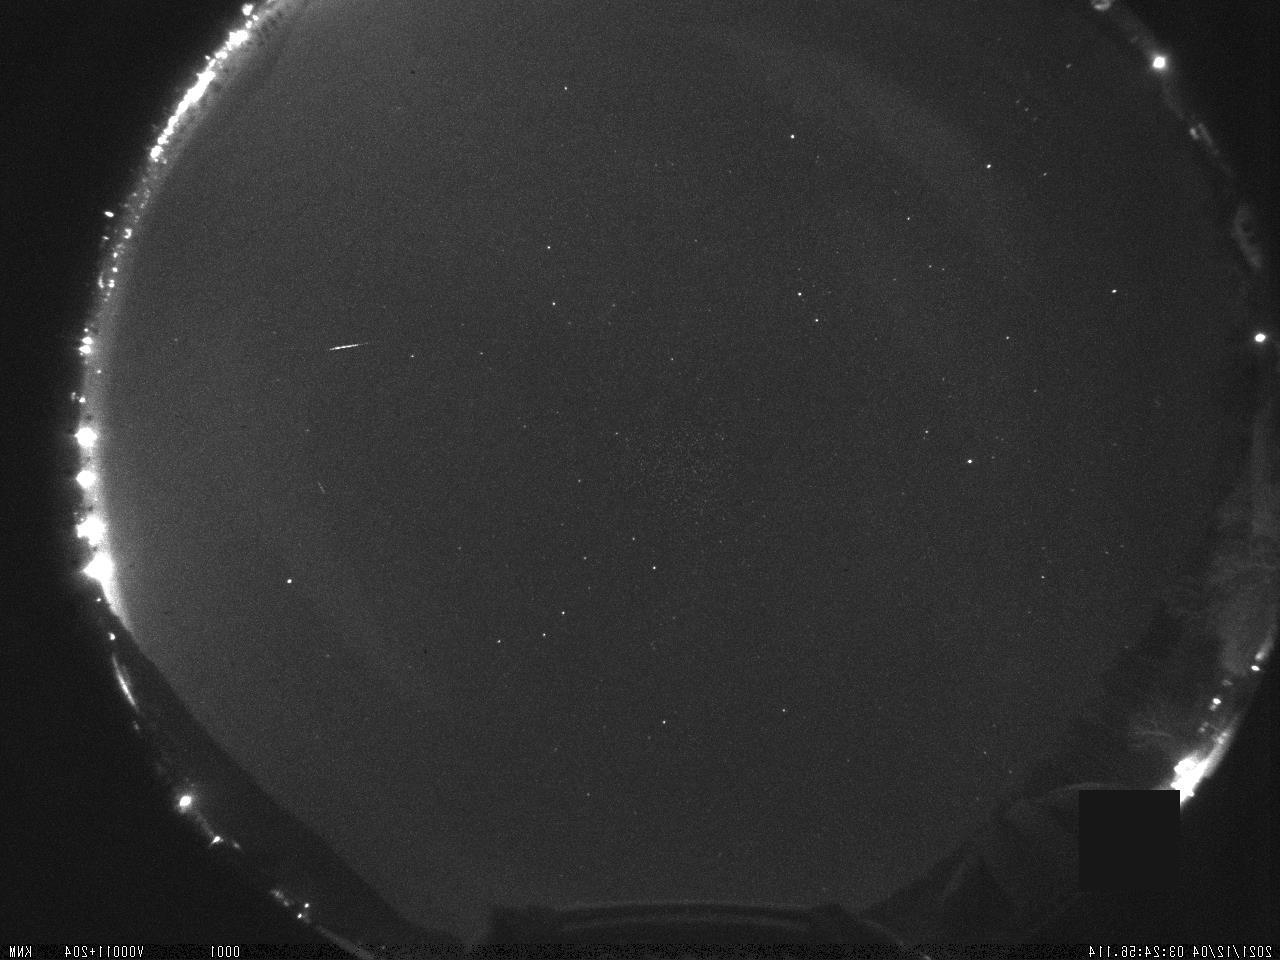meteor: (323, 331, 380, 360)
